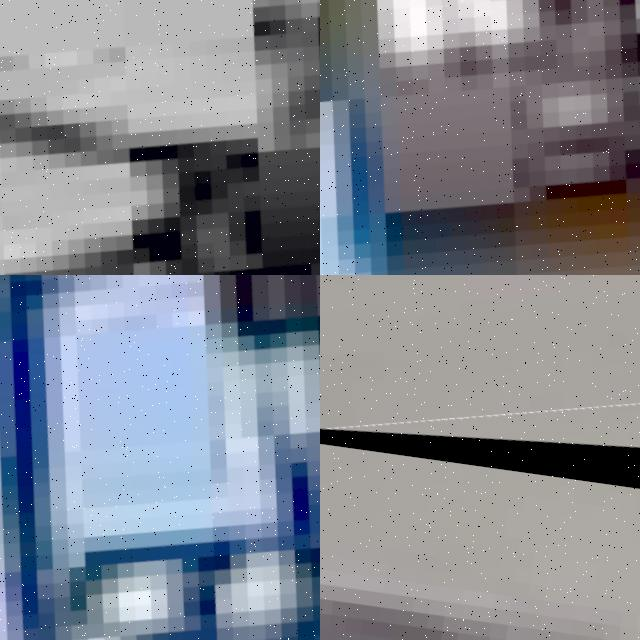drone: (0, 275, 320, 640), (0, 0, 320, 275), (320, 0, 640, 275), (320, 275, 640, 504)
